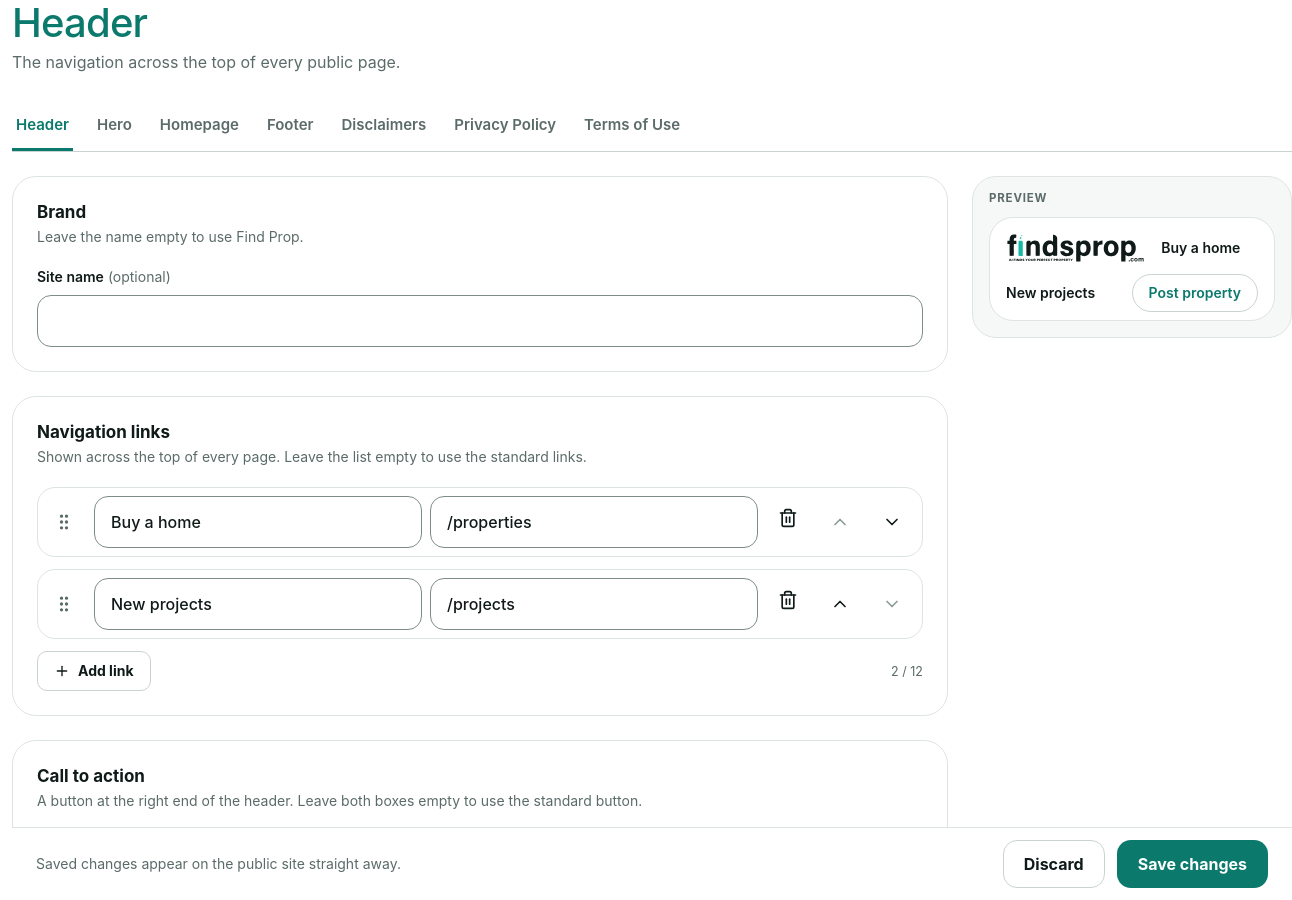
Test: UT-header-form: the Header page (S7-T10) › puts the server's problems on their boxes and names how many in an alert
The image size is (1292, 900).
Click the button "Save changes" at (1192, 864), box [1117,840,1268,888]
(page scrolled)
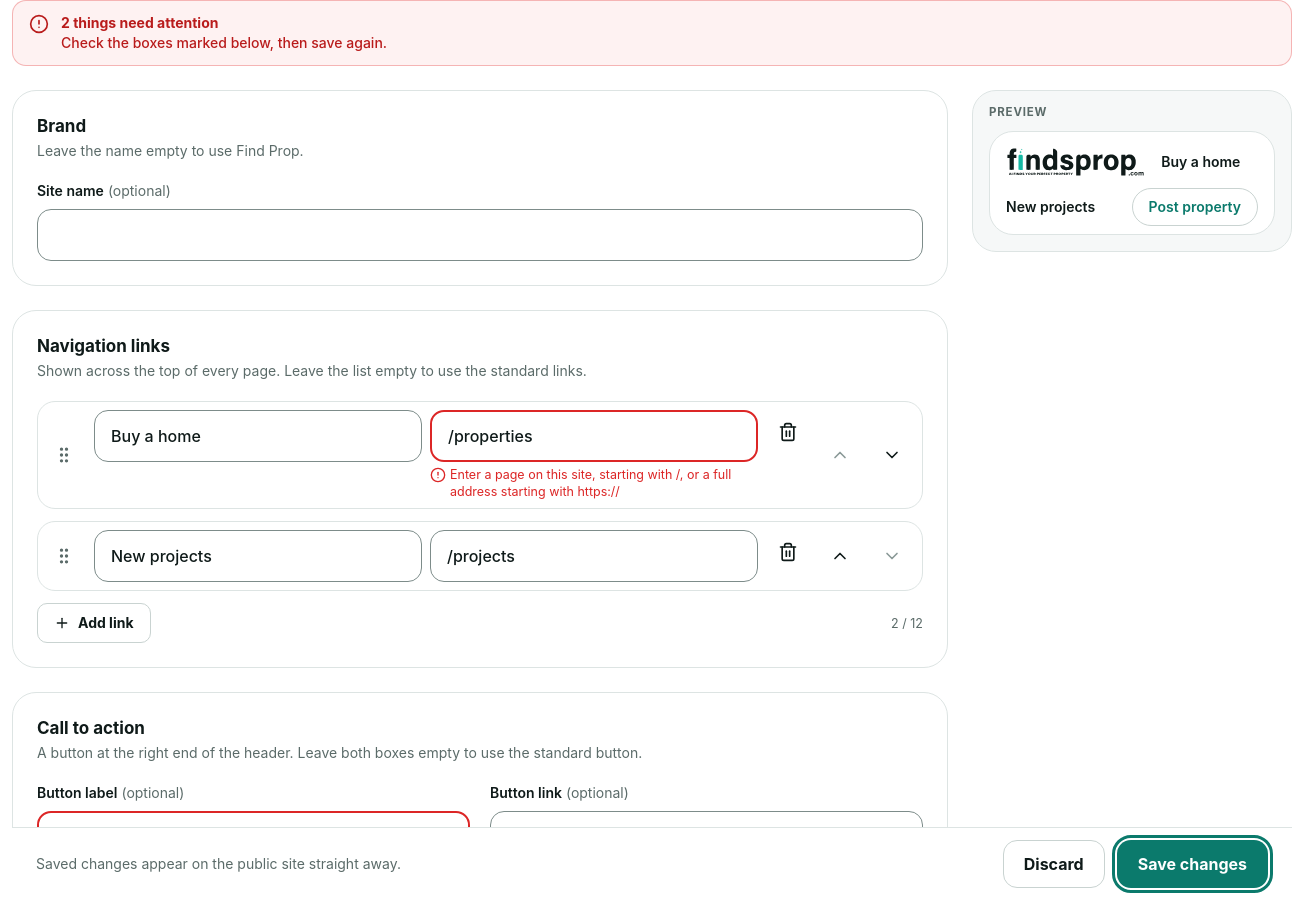
Now the message shows "2 things need attention", box [61,14,218,31]
Now the text "Enter a page on this site, starting with /, or a full address starting with https://" is shown, box [450,467,731,499]
